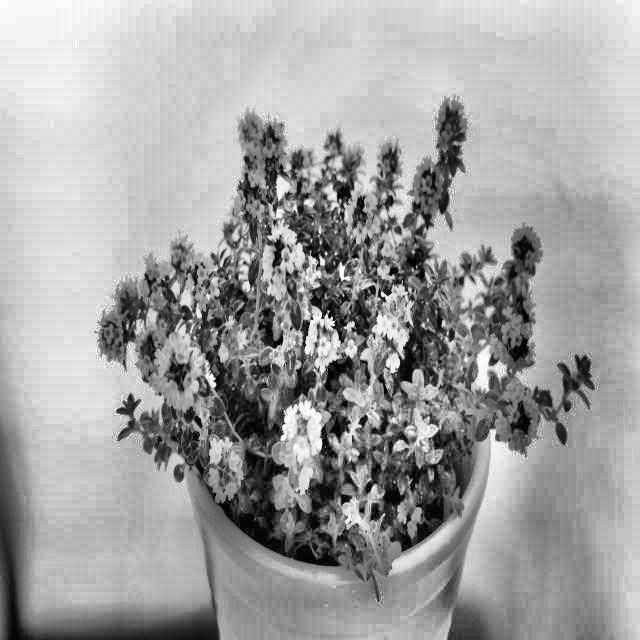plants: (118, 118, 520, 622)
